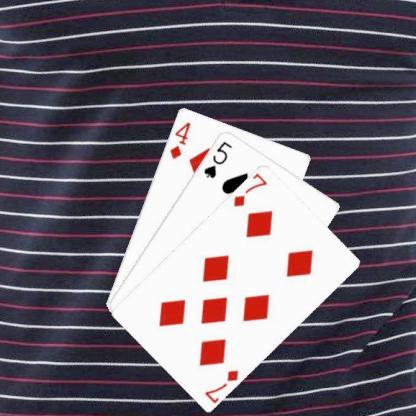4D: (166, 119, 192, 160)
5S: (200, 138, 234, 179)
7D: (230, 171, 269, 208), (201, 366, 239, 403)
